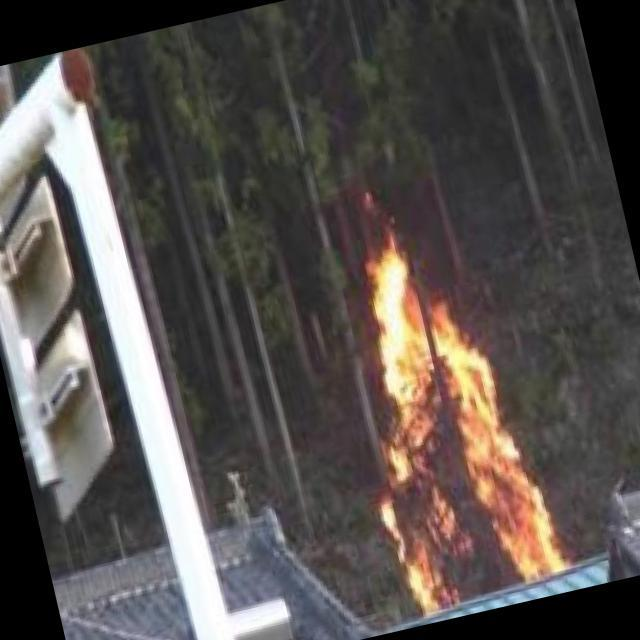Fire: (324, 221, 563, 616)
